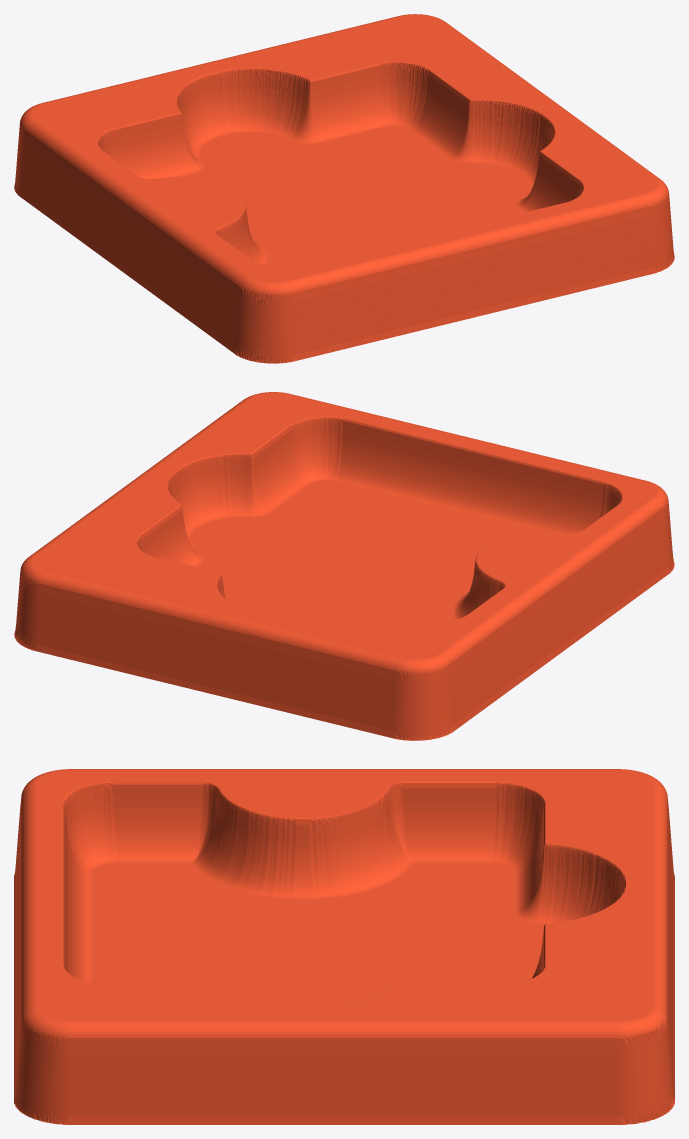
Rendered from mold.glb.
The picture shows the model from 3 angles, top to bottom: view 1: azimuth 30°, elevation 25°; view 2: azimuth 150°, elevation 25°; view 3: azimuth 270°, elevation 25°; orthographic projection. The views are drawn at different scales.
Parts seen in each view (by area): view 1: geometry_0; view 2: geometry_0; view 3: geometry_0.
Part boxes in pixels (box(x1,y1,x2,y2)): geometry_0: box(14, 14, 674, 363); geometry_0: box(14, 392, 674, 740); geometry_0: box(14, 769, 674, 1124).
Bounding box in the file's own units: 0.1014 × 0.0165 × 0.105.
